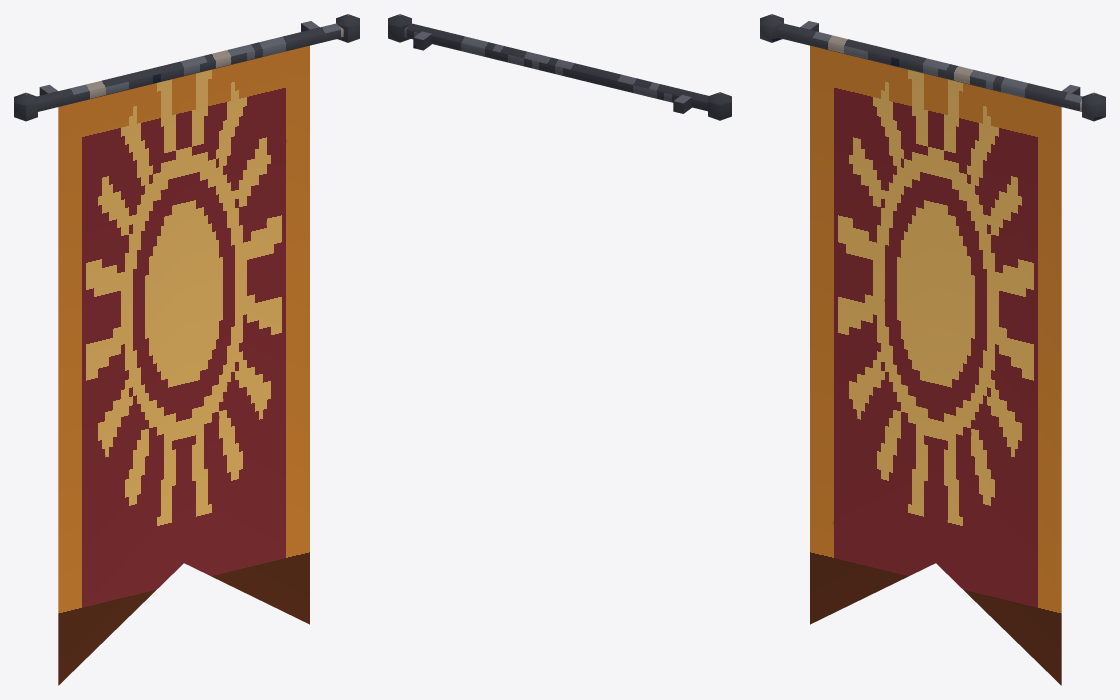
The model's file is dprop.banner.glb.
3 views of the same model, side by side, from view 1: azimuth 30°, elevation 25°; view 2: azimuth 150°, elevation 25°; view 3: azimuth 330°, elevation 25° (orthographic).
Parts seen in each view (by area): view 1: kit_card_cloth, kit_rod; view 2: kit_rod; view 3: kit_card_cloth, kit_rod.
Part boxes in pixels (<box>): kit_card_cloth: <box>58,45,309,685</box>; kit_rod: <box>14,14,359,121</box>; kit_rod: <box>388,14,731,120</box>; kit_card_cloth: <box>810,45,1061,685</box>; kit_rod: <box>760,14,1105,121</box>.
Size of the model in its own units: 1.38 by 2.29 by 0.1213.
Materials: 2 (2 with a texture image).
